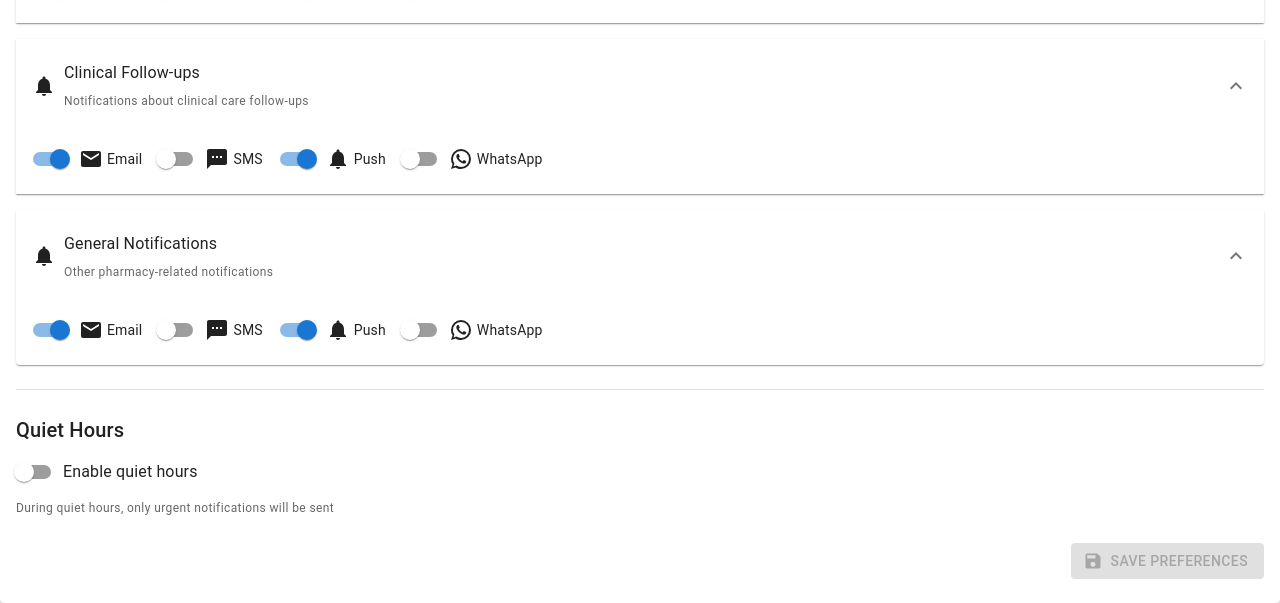
Test: NotificationPreferencesForm › handles quiet hours toggle
This screenshot has width=1280, height=603.
(page scrolled)
Click the switch labelled "Enable quiet hours" at (106, 472), box [14, 462, 198, 482]
(page scrolled)
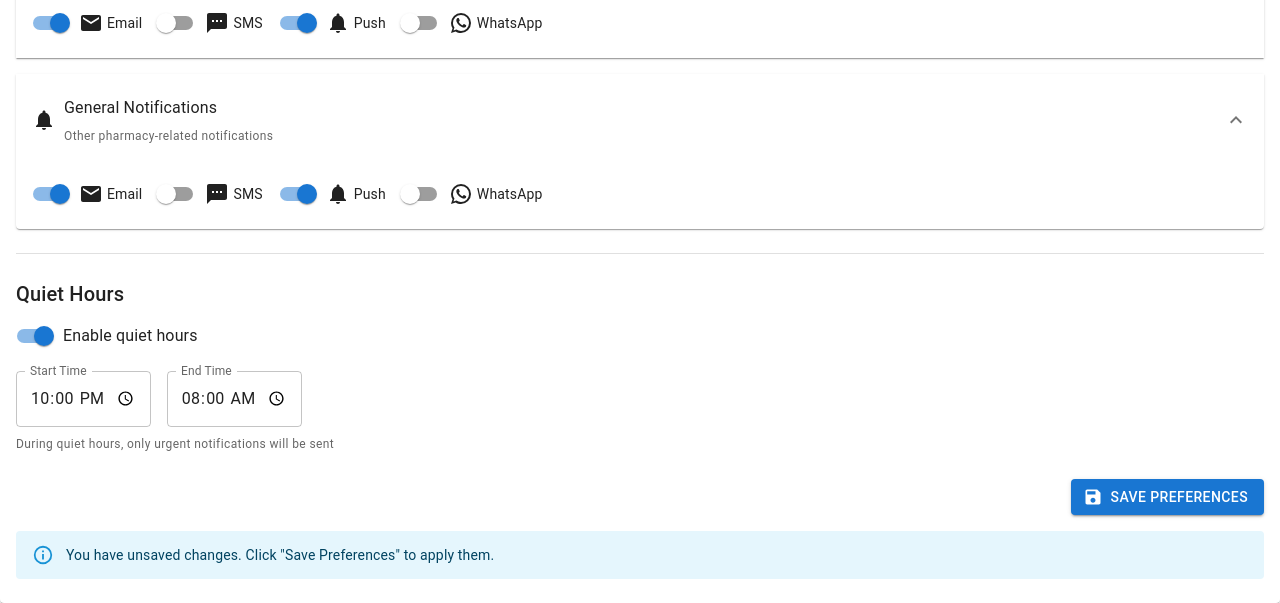
Expected: the time field labelled "Start Time" is shown, [16, 371, 151, 427]
Expected: the time field labelled "End Time" is shown, [167, 371, 302, 427]
Expected: the text "You have unsaved changes. Click \"Save Preferences\" to apply them." is shown, [66, 547, 494, 563]
